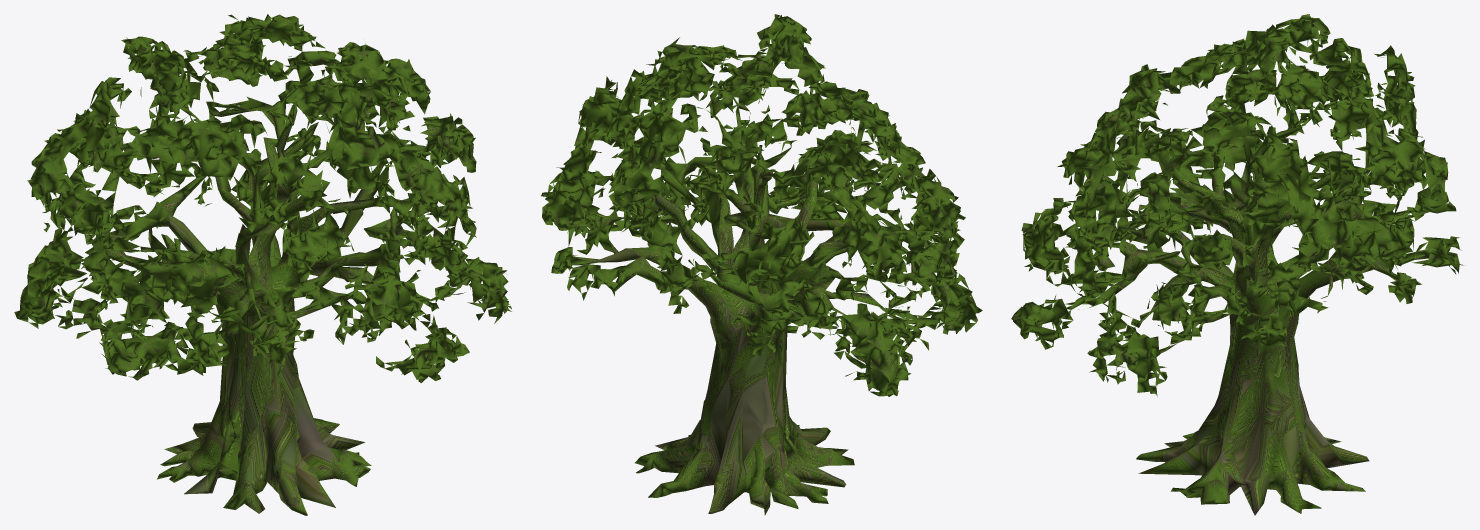
3 renders of one model, left to right at view 1: azimuth 30°, elevation 25°; view 2: azimuth 150°, elevation 25°; view 3: azimuth 270°, elevation 25°, orthographic. The views are drawn at different scales.
Bounding box in the file's own units: 1.85 × 1.97 × 1.92.
1 material, 1 textured.
